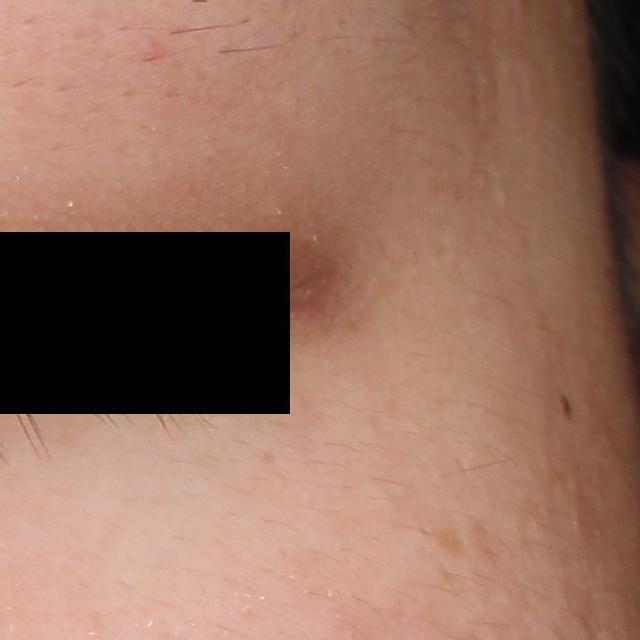nevus: (554, 390, 578, 420)
